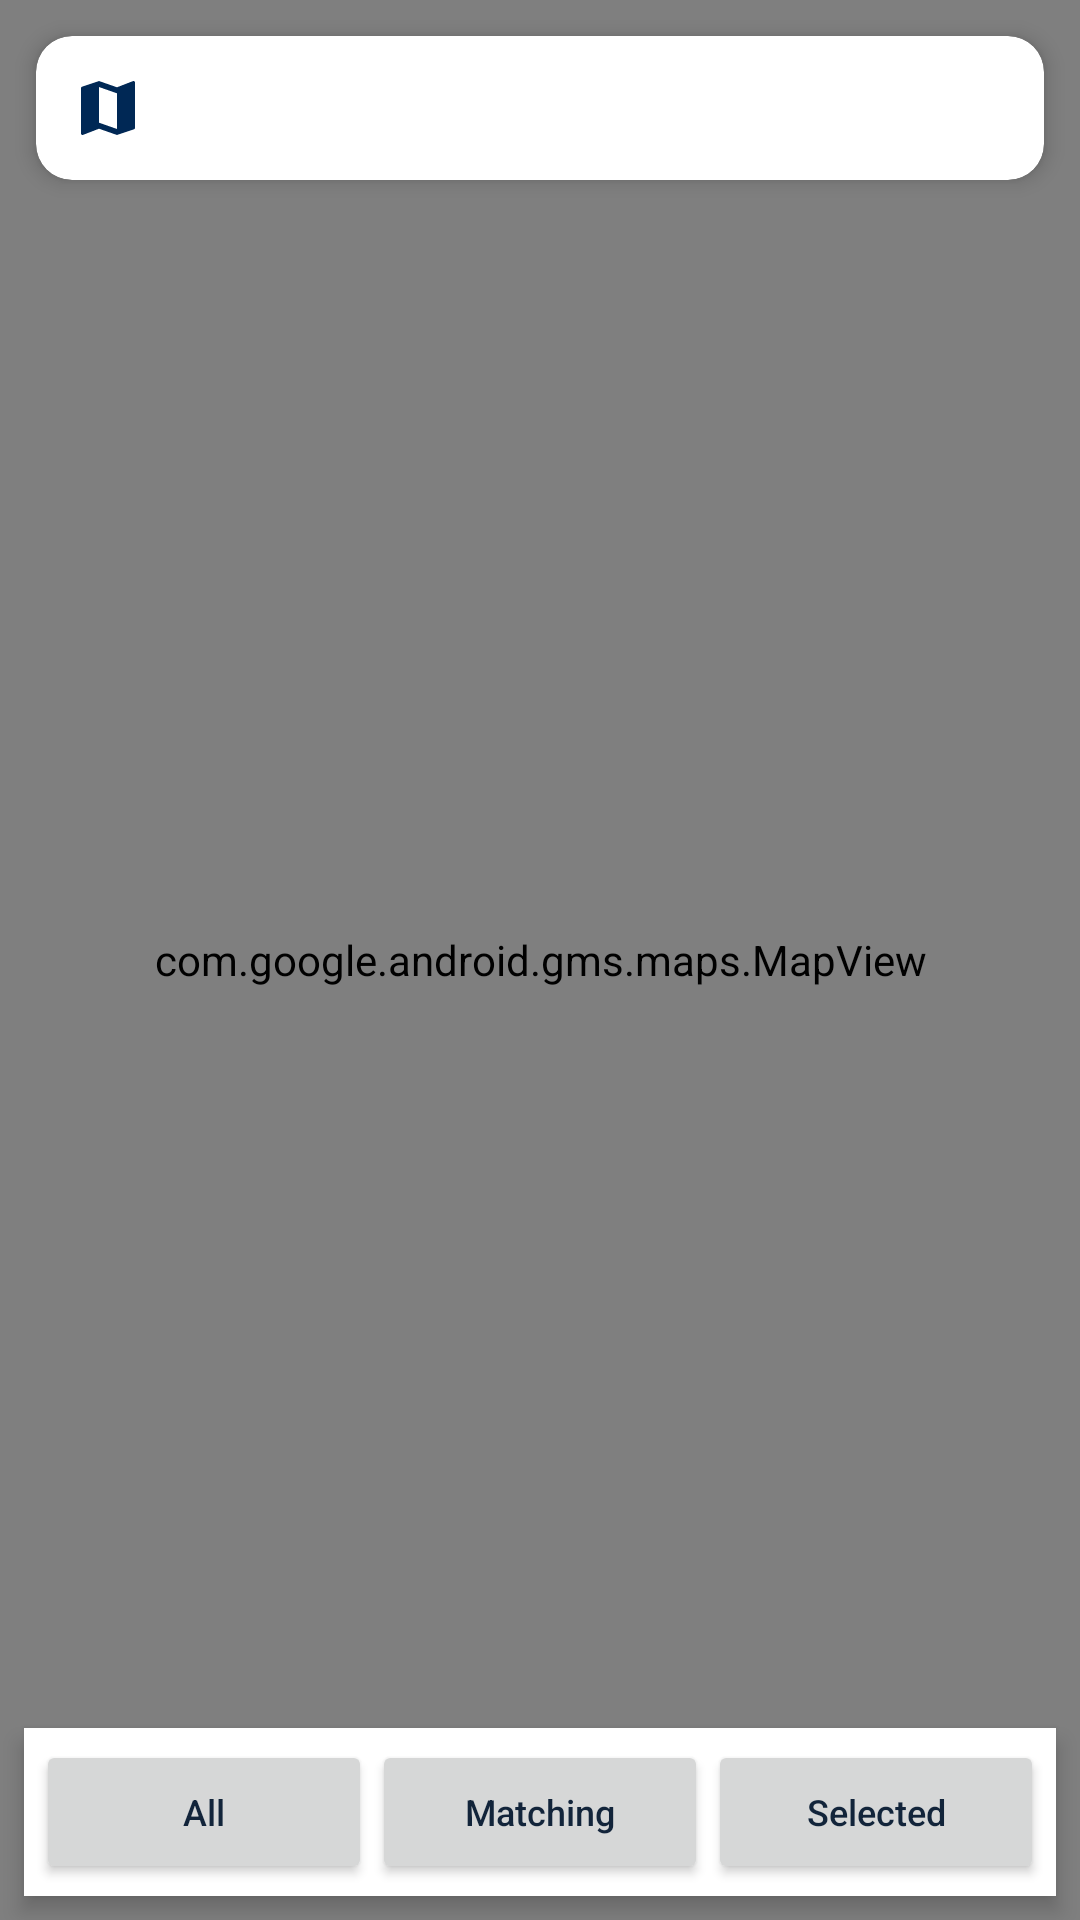

Icons on this 1080x1920 Android screen, each with its box as (x1=x1, y1=y1, x2=x2, y2=y2):
Map Icon: (x1=81, y1=81, x2=135, y2=135)
